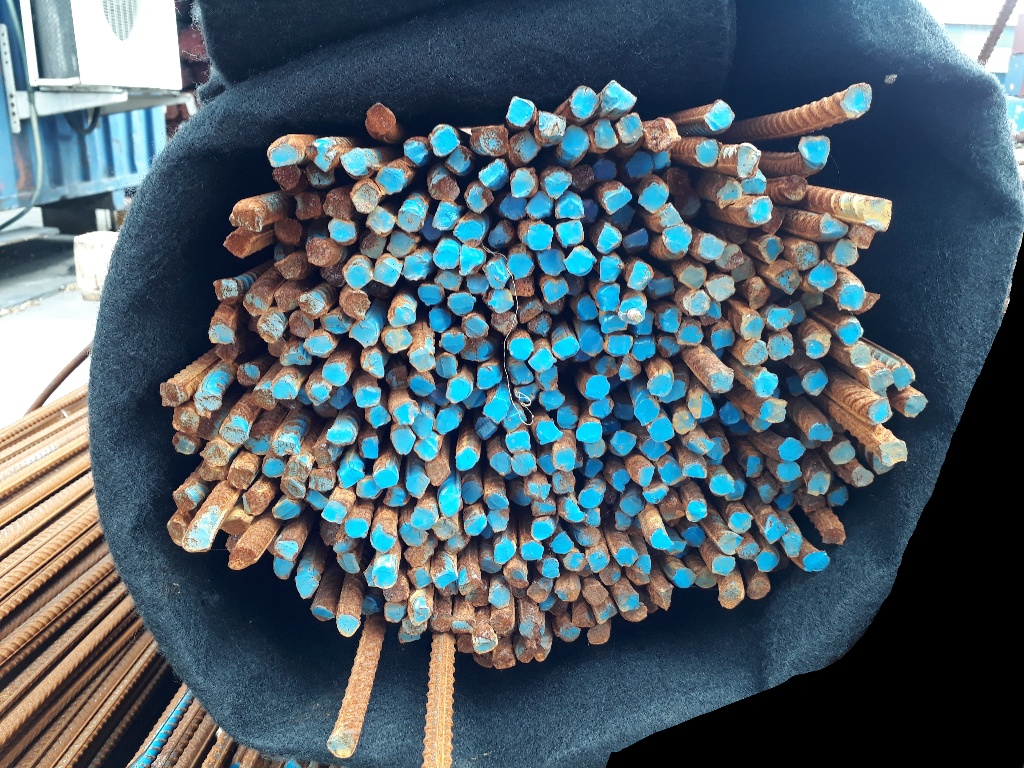dipstick: (599, 80, 637, 116), (644, 118, 681, 152), (505, 131, 541, 165), (476, 125, 511, 158), (864, 196, 893, 235), (638, 178, 669, 214), (557, 124, 589, 158), (365, 103, 397, 137), (568, 86, 599, 121), (482, 256, 513, 291), (230, 202, 263, 234), (350, 182, 383, 213), (339, 147, 373, 177), (504, 97, 536, 128), (455, 216, 486, 248), (365, 205, 396, 237), (432, 237, 463, 268), (703, 101, 736, 130), (430, 123, 459, 156), (267, 138, 302, 165), (508, 167, 538, 198), (479, 158, 510, 188), (309, 139, 339, 170), (592, 222, 621, 254), (523, 222, 555, 251), (798, 137, 831, 165), (844, 84, 874, 114), (593, 283, 623, 313), (809, 260, 838, 291), (340, 290, 371, 319), (322, 188, 353, 217), (346, 320, 378, 348), (483, 287, 516, 314), (342, 262, 375, 289), (536, 110, 566, 139), (432, 200, 461, 230), (306, 237, 335, 267), (173, 406, 201, 437), (600, 185, 632, 212), (273, 253, 305, 280), (220, 416, 249, 445), (614, 114, 644, 142), (624, 262, 654, 290), (538, 248, 568, 276), (464, 184, 494, 212), (424, 457, 454, 485), (373, 255, 401, 285), (225, 230, 253, 260), (193, 390, 221, 420), (735, 143, 762, 174), (555, 220, 586, 247), (402, 140, 433, 167), (377, 166, 408, 193), (273, 217, 304, 244), (676, 264, 708, 290), (836, 283, 865, 311), (564, 247, 593, 275), (543, 170, 572, 198), (387, 230, 416, 258), (663, 226, 693, 253), (505, 253, 535, 280), (705, 275, 736, 301), (523, 191, 554, 217), (319, 499, 350, 525), (279, 340, 311, 365), (597, 256, 625, 284), (655, 304, 682, 333), (444, 145, 471, 174), (294, 192, 323, 219), (256, 313, 283, 342), (779, 176, 809, 202), (578, 327, 604, 357), (297, 293, 327, 319), (828, 240, 859, 265), (593, 117, 618, 148), (683, 430, 714, 455), (428, 175, 459, 200), (747, 278, 771, 310), (774, 267, 802, 294), (457, 568, 484, 596), (181, 526, 209, 553), (740, 167, 766, 196), (656, 459, 685, 485), (293, 571, 319, 600), (756, 237, 786, 262), (714, 245, 744, 270), (674, 321, 704, 346), (201, 442, 231, 467), (816, 216, 848, 239), (207, 320, 239, 343), (619, 298, 646, 325), (706, 368, 734, 394), (803, 548, 831, 574), (458, 245, 484, 273), (434, 407, 460, 435), (406, 597, 434, 623), (360, 231, 386, 259), (227, 546, 255, 572), (445, 378, 474, 403), (326, 422, 356, 446), (303, 333, 333, 357), (271, 288, 301, 312), (802, 370, 829, 396), (766, 334, 793, 360), (741, 338, 767, 365), (633, 398, 660, 424), (623, 226, 649, 253), (649, 583, 675, 610), (427, 305, 453, 332), (243, 490, 270, 516), (758, 398, 786, 423), (569, 163, 597, 188), (526, 348, 554, 373), (491, 309, 519, 334), (460, 313, 488, 338), (383, 575, 408, 603), (311, 442, 339, 467), (211, 278, 239, 303), (288, 312, 316, 337), (740, 313, 764, 342), (762, 515, 786, 544), (540, 279, 569, 303), (353, 384, 382, 408), (574, 420, 604, 443), (336, 464, 366, 487), (321, 361, 351, 384), (271, 497, 301, 520), (795, 244, 821, 270), (483, 397, 509, 423), (409, 347, 435, 373), (243, 292, 269, 318), (748, 197, 773, 224), (694, 139, 719, 166), (729, 255, 756, 280), (709, 323, 736, 348), (717, 584, 744, 609), (629, 462, 656, 487), (491, 537, 518, 562), (501, 403, 526, 430), (436, 487, 461, 514), (409, 372, 436, 397), (328, 217, 355, 242), (247, 429, 274, 454), (655, 205, 683, 229), (511, 449, 535, 477), (335, 552, 363, 576), (308, 468, 336, 492), (646, 274, 675, 297), (555, 196, 584, 219), (499, 197, 528, 220), (383, 330, 412, 353), (321, 310, 350, 333), (638, 438, 671, 458), (446, 292, 476, 314), (273, 167, 303, 189), (433, 269, 464, 290), (305, 164, 336, 185), (849, 224, 874, 250), (779, 437, 804, 463), (716, 182, 742, 207), (739, 452, 764, 478), (648, 417, 674, 442), (553, 447, 579, 472), (527, 313, 553, 338), (488, 451, 514, 476), (393, 400, 419, 425), (272, 555, 298, 580), (626, 152, 653, 176), (697, 234, 724, 258), (752, 373, 779, 397), (683, 290, 710, 314), (745, 576, 772, 600), (583, 374, 610, 398), (558, 497, 582, 524), (505, 430, 532, 454), (361, 351, 385, 378), (880, 442, 908, 465), (828, 442, 856, 465), (506, 360, 534, 383), (605, 332, 634, 354), (599, 312, 629, 333), (870, 367, 895, 392), (889, 365, 914, 390), (666, 168, 691, 193), (583, 582, 608, 607), (464, 338, 489, 363), (428, 608, 453, 633), (336, 613, 361, 638), (228, 465, 253, 490), (574, 296, 598, 322), (488, 222, 514, 246), (459, 478, 483, 504), (370, 528, 396, 552), (407, 472, 431, 498), (397, 208, 423, 232), (158, 382, 184, 406), (716, 532, 743, 555), (709, 473, 736, 496), (611, 430, 638, 453), (504, 565, 531, 588), (416, 284, 443, 307), (326, 385, 353, 408), (319, 265, 346, 288), (235, 362, 262, 385), (673, 193, 701, 215), (654, 337, 683, 358), (807, 472, 831, 497), (661, 378, 685, 403), (619, 355, 643, 380), (619, 492, 644, 516), (506, 278, 536, 298), (486, 507, 510, 532), (433, 353, 458, 377), (357, 475, 381, 500), (805, 335, 831, 358), (646, 373, 672, 396), (631, 337, 657, 360), (659, 497, 685, 520), (535, 365, 558, 391), (403, 254, 426, 280), (574, 525, 601, 547), (407, 568, 434, 590), (409, 506, 436, 528), (807, 421, 835, 442), (783, 529, 804, 557), (201, 461, 229, 482), (283, 457, 311, 478), (533, 634, 553, 663), (869, 399, 893, 423), (821, 523, 845, 547), (705, 437, 730, 460), (551, 470, 576, 493), (511, 337, 534, 362), (534, 421, 559, 444), (463, 512, 486, 537), (344, 517, 369, 540), (590, 160, 616, 182), (553, 337, 579, 359), (328, 736, 354, 758), (391, 429, 413, 455), (591, 354, 618, 375), (364, 407, 392, 427), (223, 515, 251, 535), (838, 321, 861, 345), (719, 402, 743, 425), (754, 550, 778, 573), (729, 512, 753, 535), (673, 410, 696, 434), (685, 500, 709, 523), (557, 405, 581, 428), (524, 477, 548, 500), (526, 578, 549, 602), (476, 366, 499, 390), (373, 564, 396, 588), (253, 388, 276, 412), (768, 307, 793, 329), (518, 300, 543, 322), (511, 481, 533, 506), (455, 447, 477, 472), (411, 413, 433, 438), (391, 305, 416, 327), (359, 436, 381, 461), (279, 478, 304, 500), (670, 567, 696, 588), (579, 456, 605, 477), (585, 551, 611, 572), (515, 638, 536, 664), (441, 332, 467, 353), (372, 467, 398, 488), (387, 366, 408, 392), (273, 538, 299, 559), (776, 461, 803, 481), (621, 602, 648, 622), (166, 518, 186, 545), (798, 494, 826, 513), (688, 399, 716, 418), (400, 525, 428, 544), (273, 436, 301, 455), (904, 394, 927, 417), (851, 345, 874, 368), (648, 527, 671, 550), (551, 532, 574, 555), (467, 270, 490, 293), (518, 617, 543, 638), (171, 433, 196, 454), (577, 487, 603, 507), (539, 388, 565, 408), (531, 498, 557, 518), (485, 490, 511, 510), (383, 487, 409, 507), (735, 541, 762, 560), (726, 223, 749, 245), (756, 480, 778, 503), (616, 590, 639, 612), (826, 486, 850, 507), (711, 555, 735, 576), (694, 566, 718, 587), (610, 468, 631, 492), (539, 557, 563, 578), (400, 615, 428, 633), (405, 547, 429, 568), (748, 413, 773, 433), (613, 547, 638, 567), (414, 440, 439, 460), (261, 457, 286, 477), (563, 550, 585, 572), (490, 614, 513, 635), (599, 416, 623, 436), (487, 588, 511, 608), (431, 518, 455, 538), (271, 379, 295, 399), (214, 343, 238, 363), (174, 488, 194, 512), (681, 461, 709, 478), (471, 633, 499, 650), (871, 454, 896, 473), (558, 622, 583, 641), (581, 197, 599, 223), (800, 292, 823, 312), (643, 483, 666, 503), (586, 623, 609, 643), (591, 603, 614, 623), (383, 602, 406, 622), (682, 526, 706, 545), (635, 309, 654, 333), (521, 542, 545, 561), (491, 650, 515, 669), (304, 489, 328, 508), (589, 398, 614, 416), (538, 452, 556, 477), (512, 387, 540, 403), (625, 569, 651, 586), (584, 437, 605, 458), (701, 303, 723, 323), (532, 520, 554, 540), (422, 215, 441, 238), (434, 571, 458, 589), (478, 555, 503, 572), (786, 302, 806, 323), (573, 604, 593, 625), (444, 533, 465, 553), (564, 278, 586, 297), (599, 567, 622, 585), (634, 554, 654, 574), (311, 606, 336, 622), (788, 375, 806, 397), (776, 493, 798, 511), (307, 385, 329, 403), (451, 618, 474, 635), (613, 403, 634, 421), (614, 509, 632, 530), (728, 420, 753, 435), (653, 148, 671, 168), (266, 338, 286, 356), (728, 480, 745, 501), (361, 598, 382, 615), (666, 542, 689, 557), (398, 627, 421, 642), (580, 508, 600, 525), (543, 300, 564, 315), (333, 538, 354, 552), (538, 596, 556, 612), (466, 392, 484, 408), (364, 564, 376, 587), (782, 480, 802, 493)
